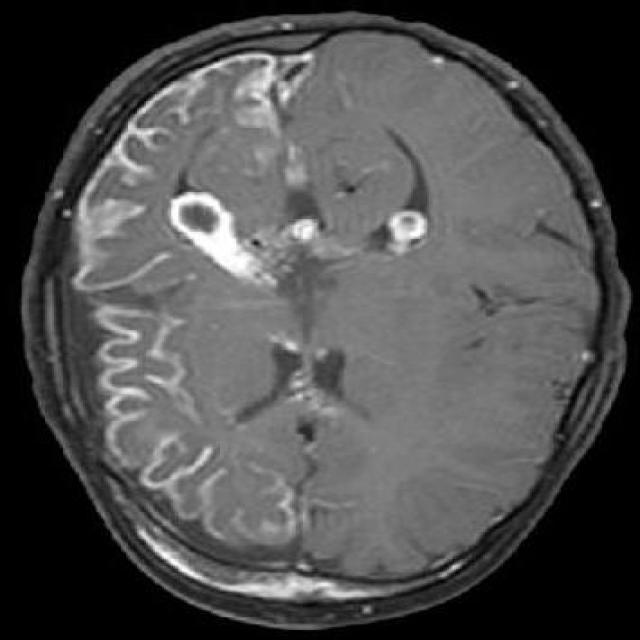Tumor-Cell: (153, 139, 465, 282)
